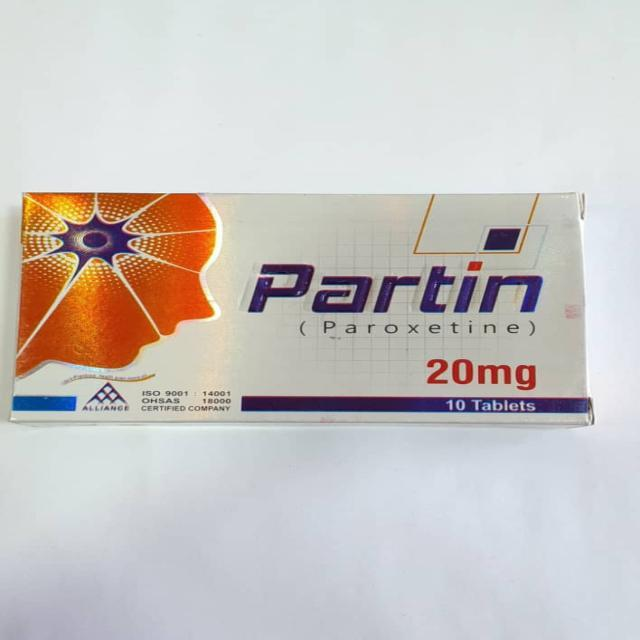drug-name: (242, 260, 546, 315)
